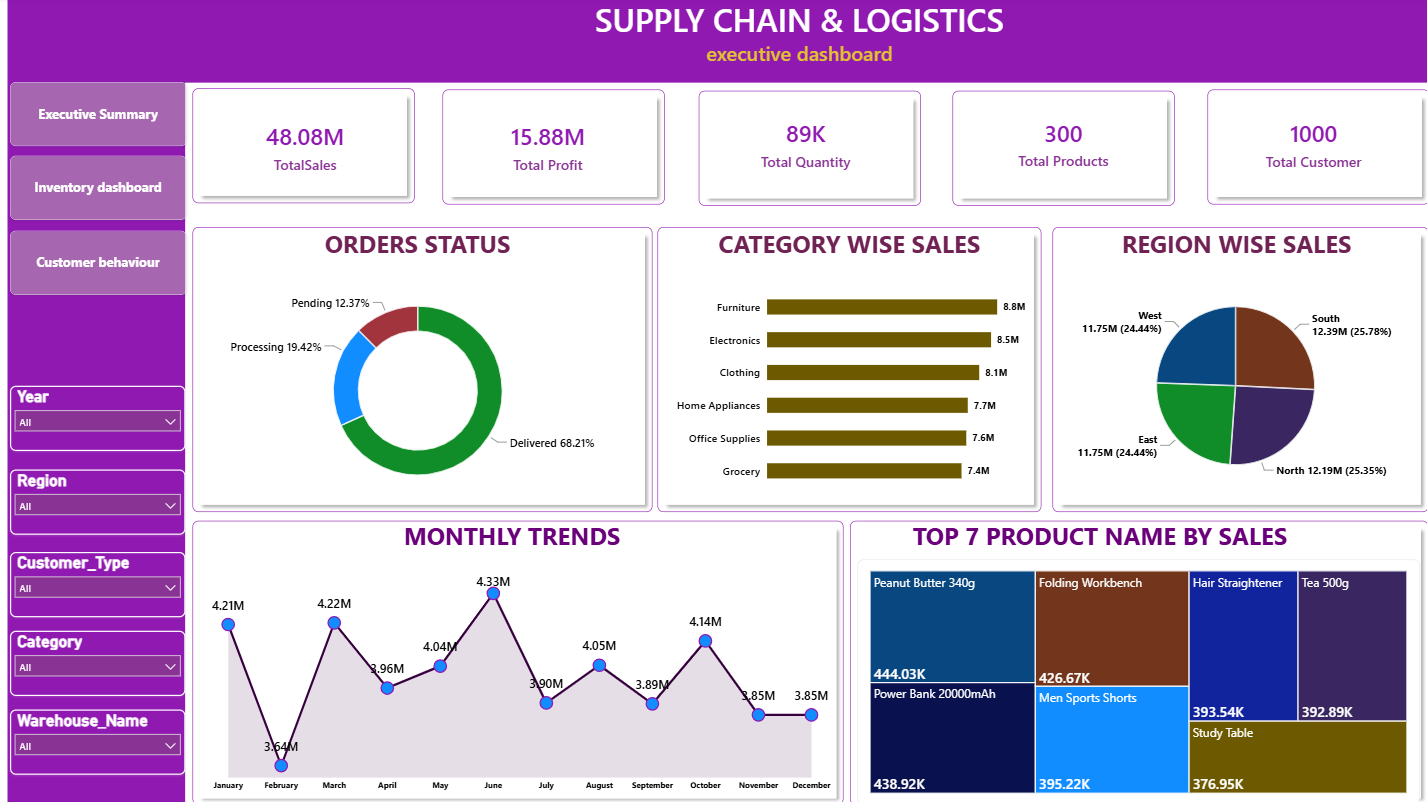

The page's visual inventory and layout, read from the dashboard file:
{"tool":"powerbi","page":{"name":"Executive Summary","canvas":[1920,1080],"ordinal":0},"visuals":[{"type":"shape","box":[10.8,0,237.3,1080.4],"z":0},{"type":"shape","box":[1136.2,699,772.6,380.9],"z":1000},{"type":"shape","box":[257.5,699,870,380.9],"z":2000},{"type":"shape","box":[257.5,307.3,614.6,380.9],"z":3000},{"type":"shape","box":[1612.3,123.4,296.5,153.7],"z":4000},{"type":"shape","box":[1272.5,125.5,296.5,153.7],"z":5000},{"type":"shape","box":[932.7,125.5,296.5,153.7],"z":6000},{"type":"shape","box":[590.8,123.4,296.5,153.7],"z":7000},{"type":"shape","box":[257.5,121.2,296.5,153.7],"z":8000},{"type":"shape","box":[244.5,0,1675,114.7],"z":9000},{"type":"textbox","box":[248.9,0,1638.3,114.7],"z":10000},{"type":"card","fields":{"Values":["Customers.Total Customer"]},"box":[1612.3,125.5,283.5,140.7],"z":11000},{"type":"card","fields":{"Values":["Sum(Orders.Sales)"]},"box":[259.7,123.4,294.3,151.5],"z":12000},{"type":"card","fields":{"Values":["Customers.Total Profit"]},"box":[590.8,125.5,281.3,149.3],"z":13000},{"type":"card","fields":{"Values":["Customers.Total Quantity"]},"box":[932.7,125.5,285.7,140.7],"z":14000},{"type":"card","fields":{"Values":["Customers.Total Products"]},"box":[1272.5,123.4,296.5,142.8],"z":15000},{"type":"lineChart","fields":{"Category":["Calendar.Date.Variation.Date Hierarchy.Month"],"Y":["Customers.Total Sales"]},"box":[259.7,751,867.8,328.9],"z":21000},{"type":"treemap","fields":{"Group":["Products.Product_Name"],"Values":["Sum(Orders.Sales)"]},"box":[1144.8,751,751,328.9],"z":22000},{"type":"donutChart","fields":{"Category":["Orders.Order_Status"],"Y":["Sum(Orders.Sales)"]},"box":[259.7,363.6,595.1,324.6],"z":23000},{"type":"shape","box":[878.6,307.3,512.9,380.9],"z":24000},{"type":"shape","box":[1406.7,307.3,502.1,380.9],"z":25000},{"type":"pieChart","fields":{"Category":["Customers.Region"],"Y":["Customers.Total Sales"]},"box":[1406.7,363.6,489.1,311.6],"z":26000},{"type":"clusteredBarChart","fields":{"Category":["Products.Category"],"Y":["Customers.Total Sales"]},"box":[887.3,363.6,504.2,313.8],"z":27000},{"type":"textbox","box":[1145.5,698.5,647.9,52.5],"z":28000},{"type":"textbox","box":[260.6,698.5,846.9,52.5],"z":29000},{"type":"textbox","box":[260.5,307.2,594.4,56.8],"z":30000},{"type":"textbox","box":[878.3,307.2,512.6,56.8],"z":31000},{"type":"textbox","box":[1407,307.3,488.5,56.8],"z":32000},{"type":"slicer","fields":{"Values":["Calendar.Year"]},"box":[12.9,520,234.3,87.1],"z":33000},{"type":"slicer","fields":{"Values":["Customers.Region"]},"box":[12.9,631.4,234.3,87.1],"z":34000},{"type":"slicer","fields":{"Values":["Customers.Customer_Type"]},"box":[12.9,741.4,234.3,87.1],"z":35000},{"type":"slicer","fields":{"Values":["Products.Category"]},"box":[12.9,847.1,234.3,87.1],"z":36000},{"type":"slicer","fields":{"Values":["Warehouses.Warehouse_Name"]},"box":[12.9,951.4,234.3,87.1],"z":37000},{"type":"actionButton","box":[12.9,114.3,235.7,85.7],"z":38000},{"type":"actionButton","box":[12.9,212.9,235.7,85.7],"z":39000},{"type":"actionButton","box":[12.9,312.9,235.7,85.7],"z":40000}]}

Visuals, with their boxes in screenshot pixels (x1, y1, x2, y2), scaled from the page's 1920x1080 canvas onto the 1427x802 screenshot:
shape: bbox=(8, 0, 184, 801)
shape: bbox=(844, 519, 1419, 801)
shape: bbox=(191, 519, 838, 801)
shape: bbox=(191, 228, 648, 511)
shape: bbox=(1198, 92, 1419, 206)
shape: bbox=(946, 93, 1166, 207)
shape: bbox=(693, 93, 914, 207)
shape: bbox=(439, 92, 659, 206)
shape: bbox=(191, 90, 412, 204)
shape: bbox=(182, 0, 1426, 85)
textbox: bbox=(185, 0, 1403, 85)
card - Customers.Total Customer: bbox=(1198, 93, 1409, 198)
card - Sum(Orders.Sales): bbox=(193, 92, 412, 204)
card - Customers.Total Profit: bbox=(439, 93, 648, 204)
card - Customers.Total Quantity: bbox=(693, 93, 906, 198)
card - Customers.Total Products: bbox=(946, 92, 1166, 198)
lineChart - Calendar.Date.Variation.Date Hierarchy.Month x Customers.Total Sales: bbox=(193, 558, 838, 801)
treemap - Products.Product_Name x Sum(Orders.Sales): bbox=(851, 558, 1409, 801)
donutChart - Orders.Order_Status x Sum(Orders.Sales): bbox=(193, 270, 635, 511)
shape: bbox=(653, 228, 1034, 511)
shape: bbox=(1046, 228, 1419, 511)
pieChart - Customers.Region x Customers.Total Sales: bbox=(1046, 270, 1409, 501)
clusteredBarChart - Products.Category x Customers.Total Sales: bbox=(659, 270, 1034, 503)
textbox: bbox=(851, 519, 1333, 558)
textbox: bbox=(194, 519, 823, 558)
textbox: bbox=(194, 228, 635, 270)
textbox: bbox=(653, 228, 1034, 270)
textbox: bbox=(1046, 228, 1409, 270)
slicer - Calendar.Year: bbox=(10, 386, 184, 451)
slicer - Customers.Region: bbox=(10, 469, 184, 534)
slicer - Customers.Customer_Type: bbox=(10, 551, 184, 615)
slicer - Products.Category: bbox=(10, 629, 184, 694)
slicer - Warehouses.Warehouse_Name: bbox=(10, 707, 184, 771)
actionButton: bbox=(10, 85, 185, 149)
actionButton: bbox=(10, 158, 185, 222)
actionButton: bbox=(10, 232, 185, 296)
